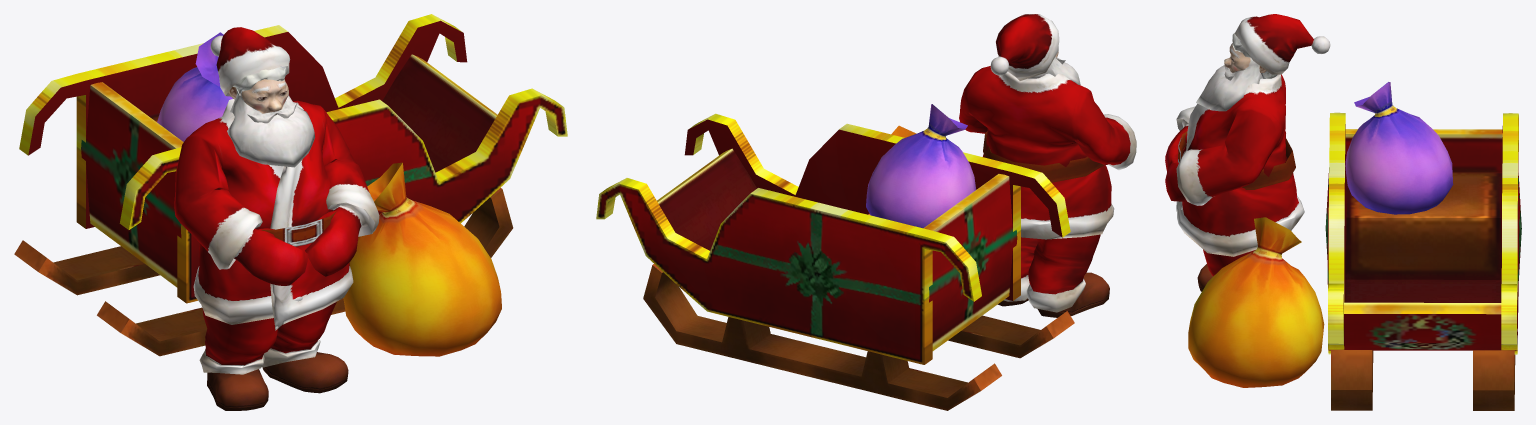
The picture shows the model from 3 angles, left to right: view 1: azimuth 30°, elevation 25°; view 2: azimuth 150°, elevation 25°; view 3: azimuth 270°, elevation 25°; orthographic projection. The views are drawn at different scales.
Parts seen in each view (by area): view 1: santa; view 2: santa; view 3: santa.
Part boxes in pixels (box(x1,y1,x2,y2)): santa: box(14, 14, 567, 410); santa: box(596, 14, 1136, 410); santa: box(1165, 14, 1521, 410).
Bounding box in the file's own units: 247 × 183 × 200.
Materials: 2 (2 with a texture image).
